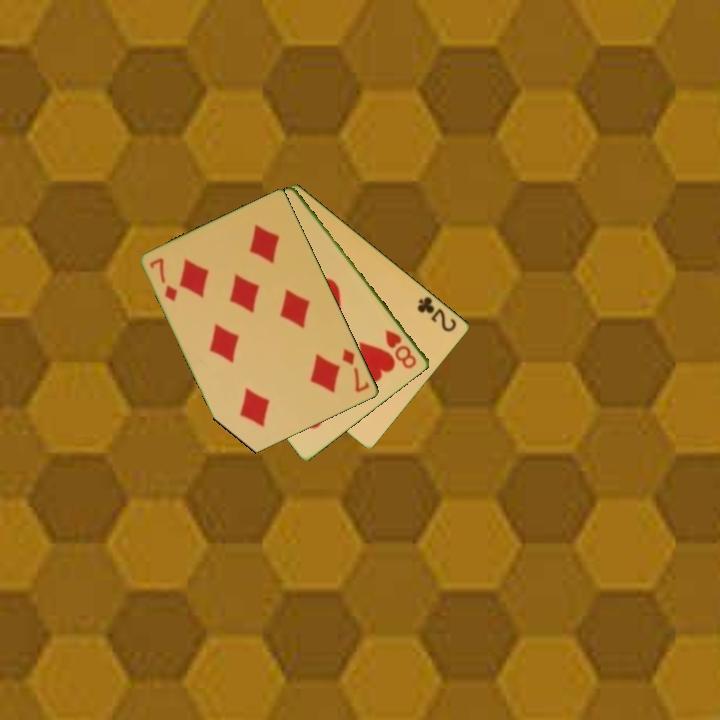2c: (414, 293, 460, 335)
7d: (146, 254, 181, 304), (339, 346, 373, 395)
8h: (382, 326, 420, 372)
